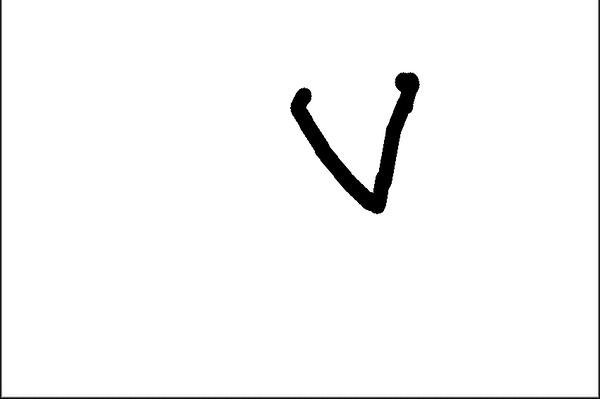V: (283, 54, 429, 215)
